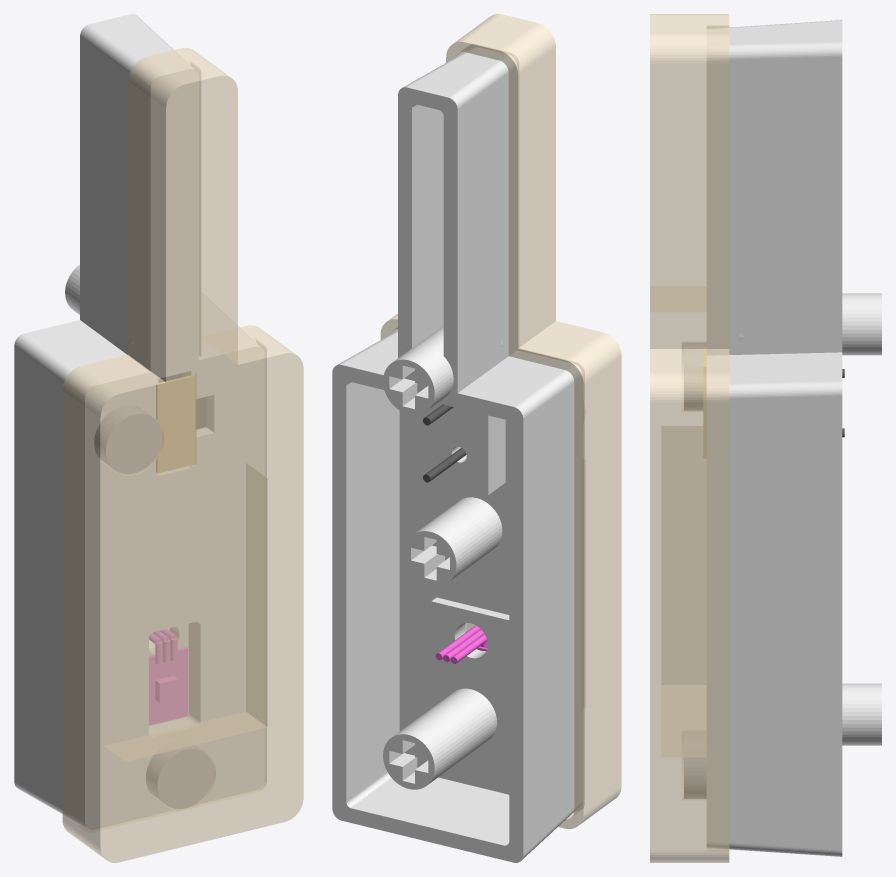
The model's file is key_assembled.glb.
3 renders of one model, left to right at view 1: azimuth 30°, elevation 25°; view 2: azimuth 150°, elevation 25°; view 3: azimuth 270°, elevation 25°, orthographic. The views are drawn at different scales.
Parts seen in each view (by area): view 1: 5_topper, 4_key, 5a_magnets_topper, 5b_short_plate, 4a_rgb_led_strip_piece; view 2: 4_key, 5_topper, 4a_rgb_led_strip_piece, 4c_pogo_connector; view 3: 4_key, 5_topper, 5a_magnets_topper.
Part boxes in pixels (bbox=[...]): 5_topper: bbox=[62, 48, 303, 862]; 4_key: bbox=[14, 14, 264, 829]; 5a_magnets_topper: bbox=[95, 406, 213, 808]; 5b_short_plate: bbox=[156, 375, 194, 472]; 4a_rgb_led_strip_piece: bbox=[149, 629, 187, 725]; 4_key: bbox=[332, 47, 582, 862]; 5_topper: bbox=[380, 14, 621, 828]; 4a_rgb_led_strip_piece: bbox=[435, 625, 487, 663]; 4c_pogo_connector: bbox=[423, 404, 466, 482]; 4_key: bbox=[707, 20, 881, 856]; 5_topper: bbox=[650, 14, 729, 862]; 5a_magnets_topper: bbox=[684, 343, 706, 798].
Size of the model in its own units: 21.62 by 77.5 by 20.5.
